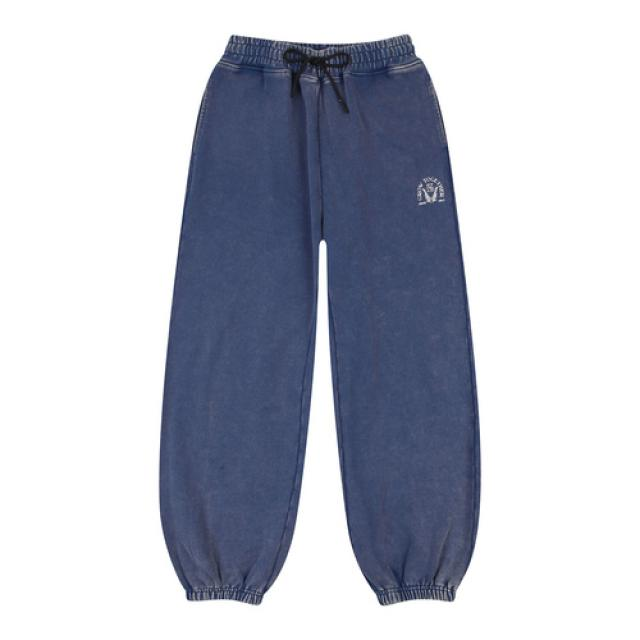dress: (155, 36, 485, 605)
